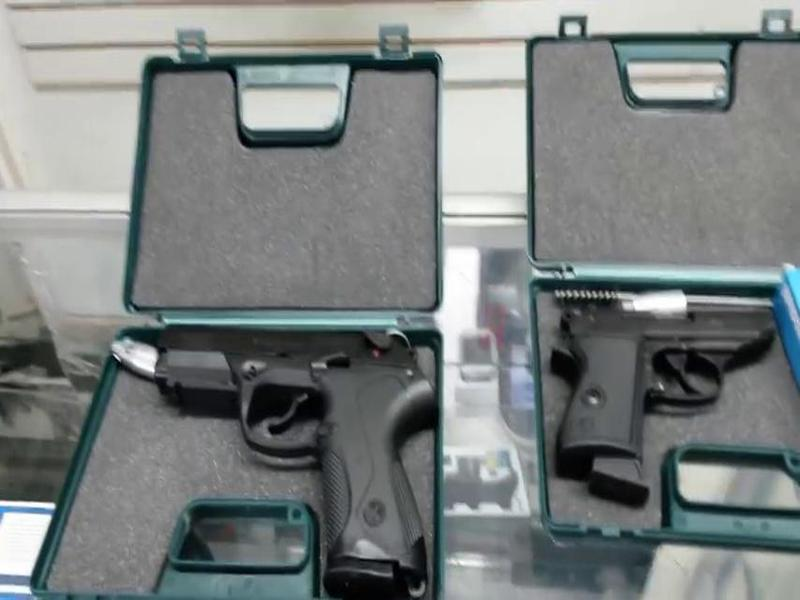Pistola: (153, 330, 438, 600), (550, 286, 787, 495)
